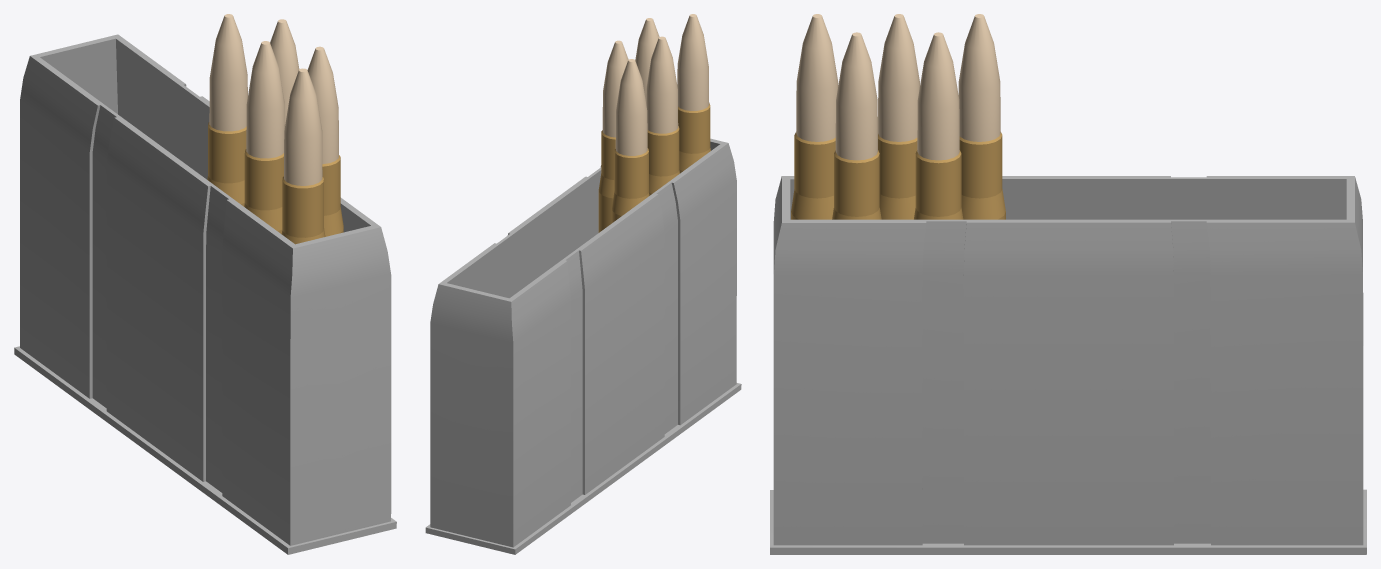
The model's file is SM_Ammo-Small.fbx.
The picture shows the model from 3 angles, left to right: view 1: azimuth 30°, elevation 25°; view 2: azimuth 150°, elevation 25°; view 3: azimuth 270°, elevation 25°; orthographic projection. The views are drawn at different scales.
Visible parts, largest first — view 1: pMag, pRound7_62mm3, pRound7_62mm7, pRound7_62mm, pRound7_62mm1, pRound7_62mm2; view 2: pMag, pRound7_62mm7, pRound7_62mm, pRound7_62mm3, pRound7_62mm2, pRound7_62mm1; view 3: pMag, pRound7_62mm7, pRound7_62mm, pRound7_62mm2, pRound7_62mm1, pRound7_62mm3.
Boxes of the visible parts, x1,y1,x2,y2 form: pMag: (14,34,396,554); pRound7_62mm3: (244,41,284,233); pRound7_62mm7: (207,14,247,206); pRound7_62mm: (281,68,325,244); pRound7_62mm1: (307,46,343,236); pRound7_62mm2: (270,19,299,125); pMag: (425,138,741,554); pRound7_62mm7: (612,59,649,222); pRound7_62mm: (677,14,710,173); pRound7_62mm3: (646,36,679,195); pRound7_62mm2: (598,40,628,232); pRound7_62mm1: (635,18,659,103); pMag: (770,176,1366,554); pRound7_62mm7: (958,14,1005,219); pRound7_62mm: (791,14,838,219); pRound7_62mm2: (914,32,963,219); pRound7_62mm1: (832,32,881,219); pRound7_62mm3: (878,14,919,219).
Size of the model in its own units: 4.3 by 17.39 by 18.78.
